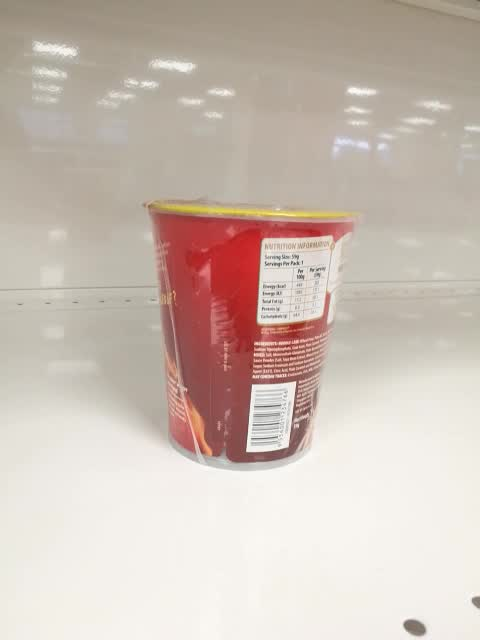maggi: (141, 198, 360, 473)
